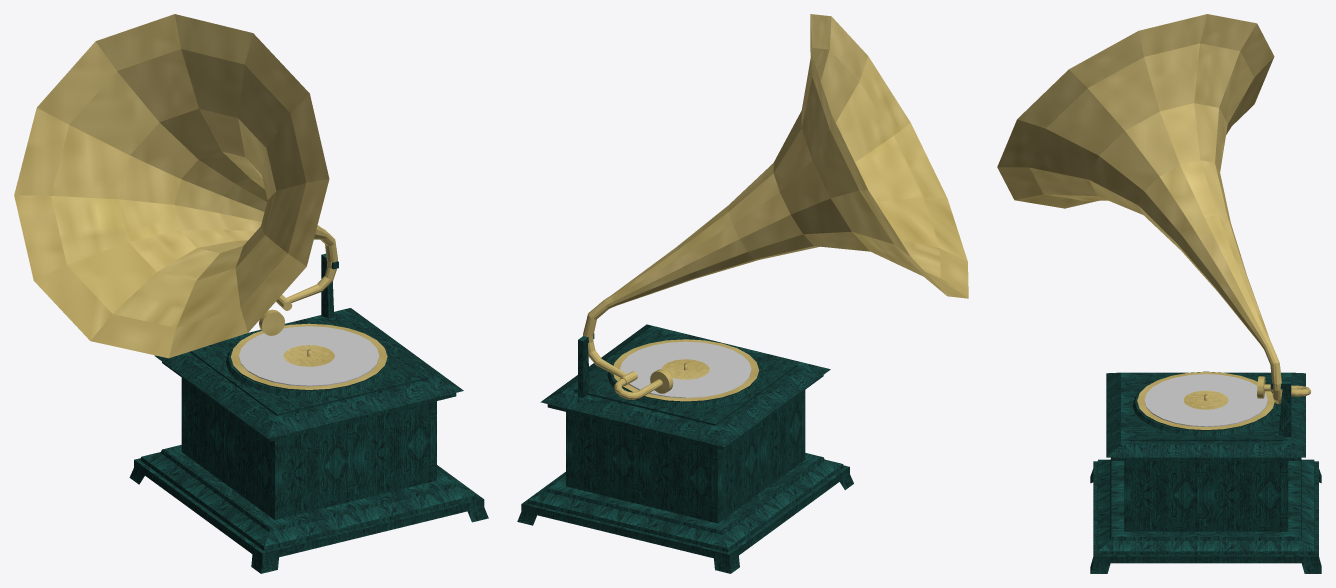
The model's file is gramophone.dae.
3 views of the same model, side by side, from view 1: azimuth 30°, elevation 25°; view 2: azimuth 150°, elevation 25°; view 3: azimuth 270°, elevation 25° (orthographic). The views are drawn at different scales.
Parts seen in each view (by area): view 1: Group1; view 2: Group1; view 3: Group1.
Boxes of the visible parts, x1,y1,x2,y2 form: Group1: [14, 14, 488, 573]; Group1: [517, 14, 968, 573]; Group1: [997, 14, 1321, 573].
Bounding box in the file's own units: 947 × 774 × 1193.
